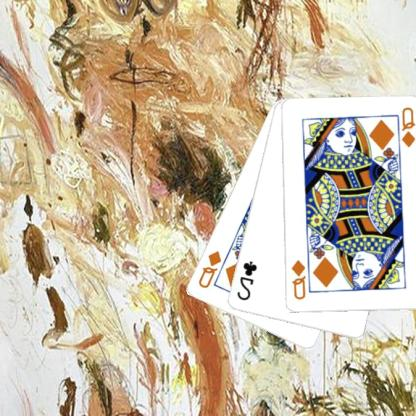2C: (235, 258, 260, 302)
QD: (197, 248, 224, 290), (290, 258, 309, 302), (401, 104, 416, 149)
